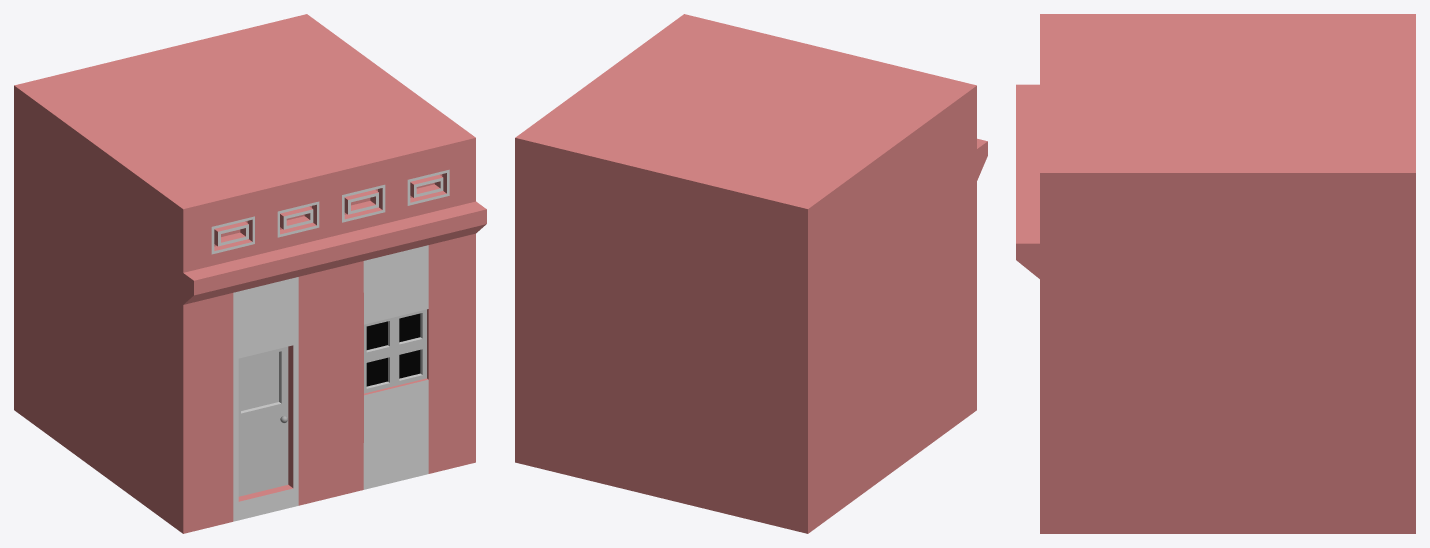
File: House_Red.fbx
3 views of the same model, side by side, from view 1: azimuth 30°, elevation 25°; view 2: azimuth 150°, elevation 25°; view 3: azimuth 270°, elevation 25° (orthographic). The views are drawn at different scales.
Visible parts, largest first — view 1: House.002; view 2: House.002; view 3: House.002.
Part boxes in pixels (x1=…): House.002: x1=14, y1=14, x2=486, y2=533; House.002: x1=515, y1=14, x2=987, y2=533; House.002: x1=1016, y1=14, x2=1415, y2=533.
Bounding box in the file's own units: 200 × 212 × 213.
